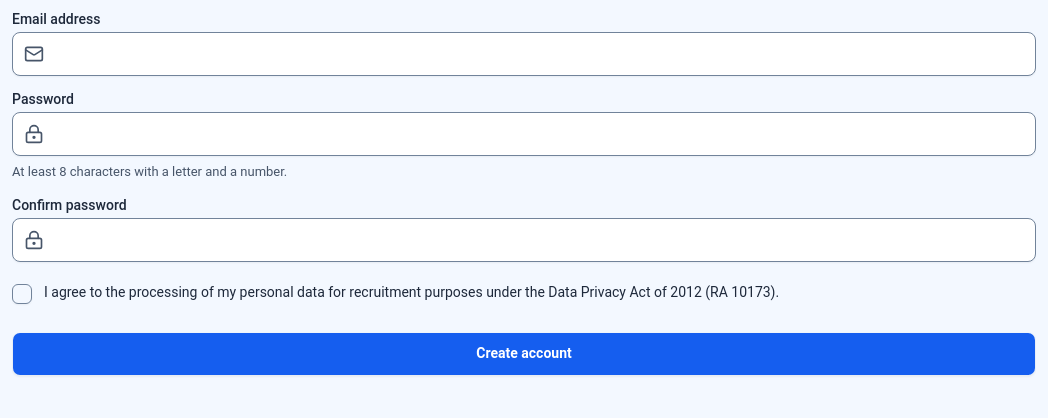
Test: SignUpForm › requires the Data Privacy Act consent
Type "ana@example.com" into the field labelled "Email address". click: point(524, 54)
box: [12, 32, 1036, 76]
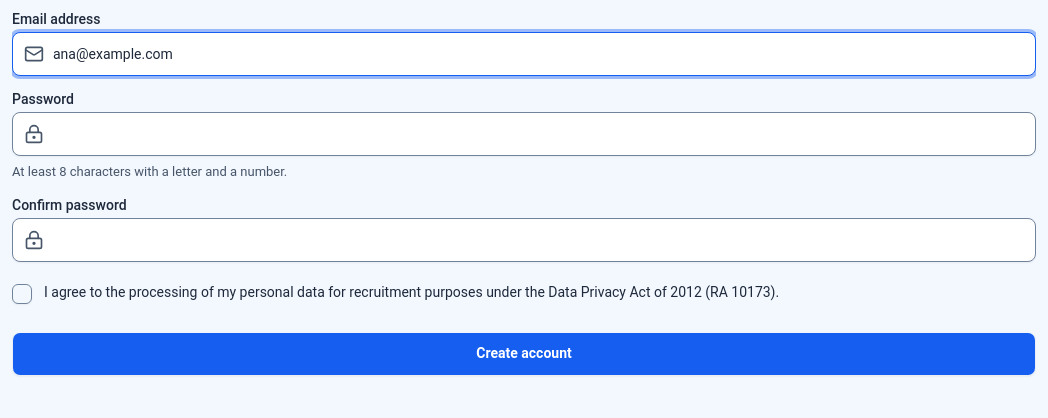
Type "Secret123" into the password field labelled "Password". click: point(524, 134)
box: [12, 112, 1036, 156]
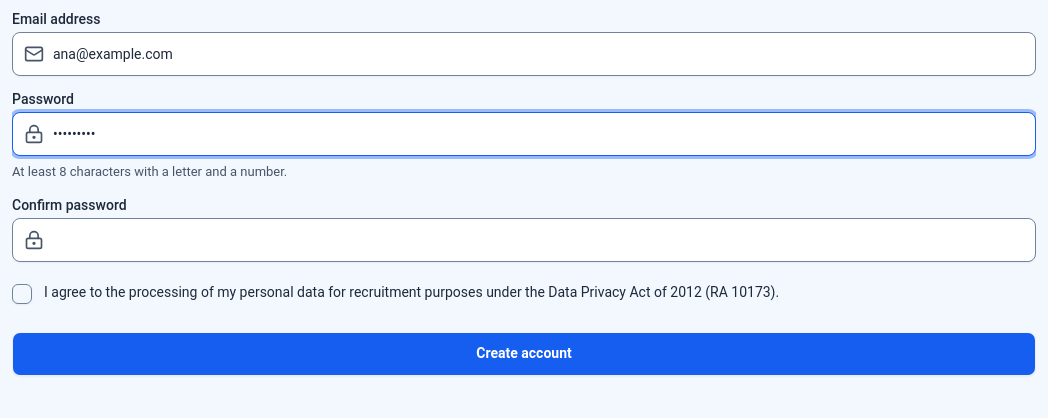
Type "Secret123" into the password field labelled "Confirm password". click: point(524, 240)
box: [12, 218, 1036, 262]
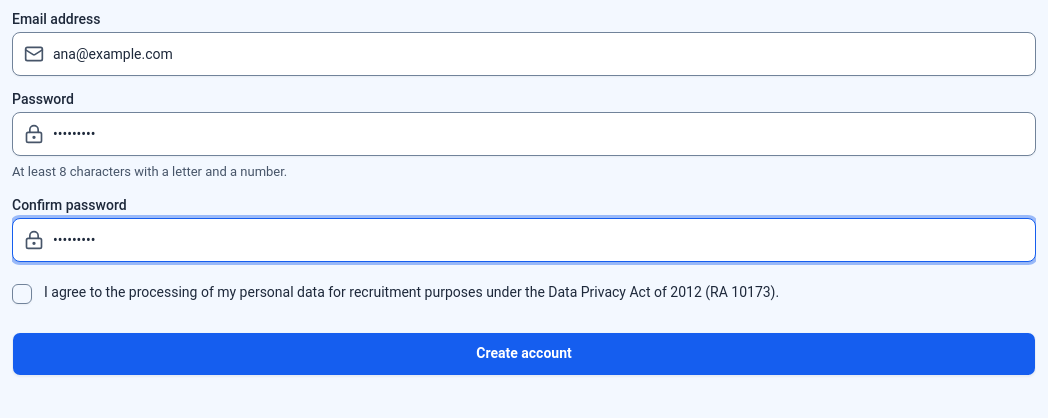
Click the button "Create account". click: point(524, 354)
box: [12, 332, 1036, 376]
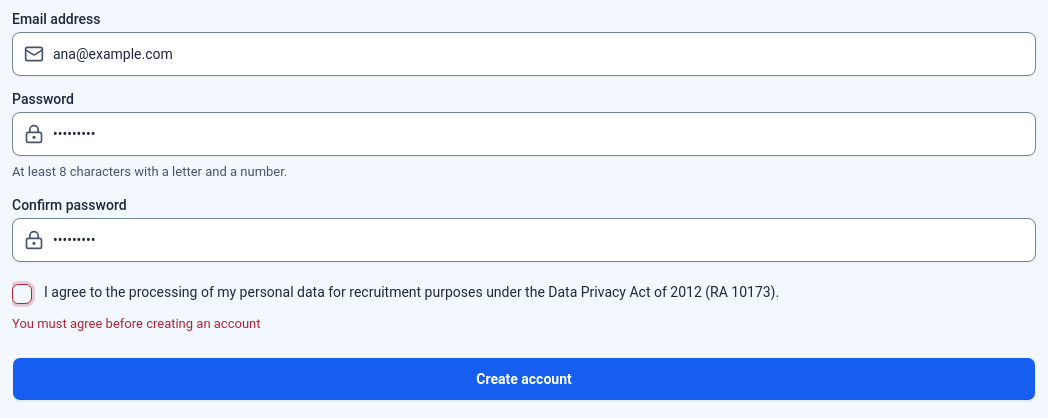
Expected: the text "You must agree before creating an account" is shown, [12, 316, 260, 330]
